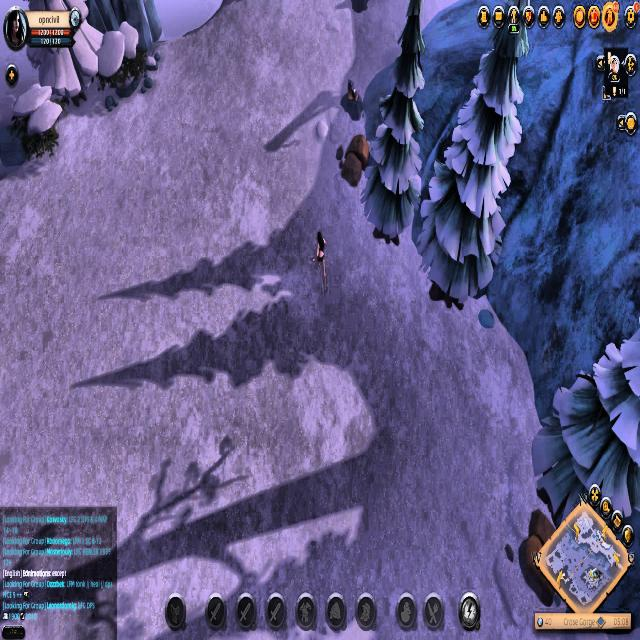copper_ore: (340, 77, 366, 125)
limestone: (517, 511, 566, 602), (338, 130, 372, 190)
